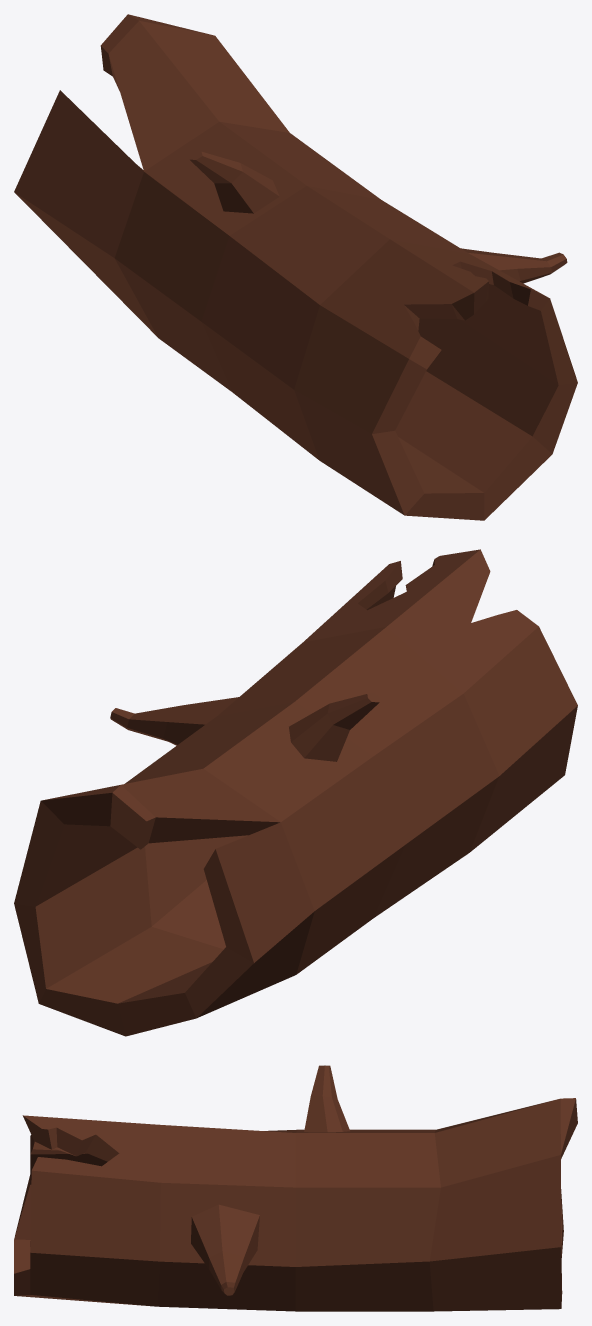
Rendered from log animation.fbx.
3 views of the same model, one above another, from view 1: azimuth 30°, elevation 25°; view 2: azimuth 150°, elevation 25°; view 3: azimuth 270°, elevation 25° (orthographic). The views are drawn at different scales.
Visible parts, largest first — view 1: Circle; view 2: Circle; view 3: Circle.
Part boxes in pixels (x1,y1,x2,y2): Circle: (14, 14, 577, 520); Circle: (14, 549, 577, 1036); Circle: (14, 1065, 577, 1311).
Bounding box in the file's own units: 72.9 × 53.59 × 131.
